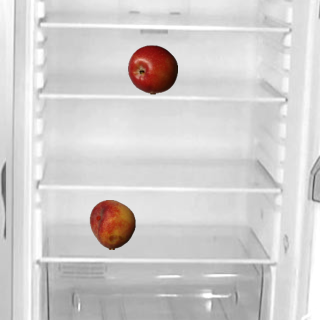Apple Braeburn: (127, 44, 177, 94)
Peach: (87, 199, 137, 249)
